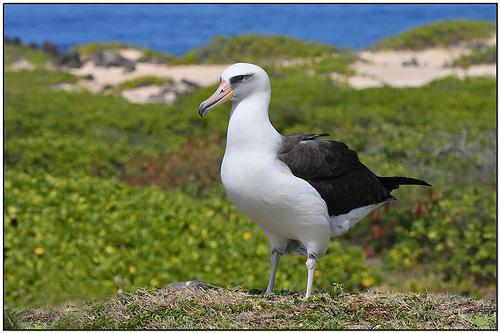002.Laysan_Albatross: (198, 60, 432, 305)
